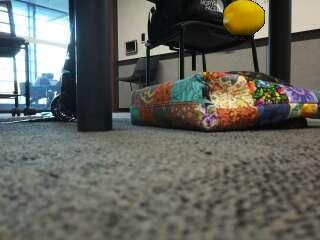lemon: (223, 0, 264, 35)
